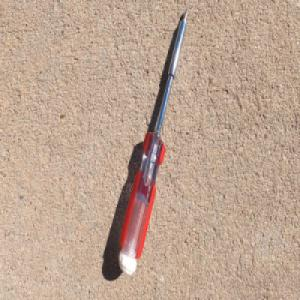Screwdriver: (117, 6, 189, 276)
